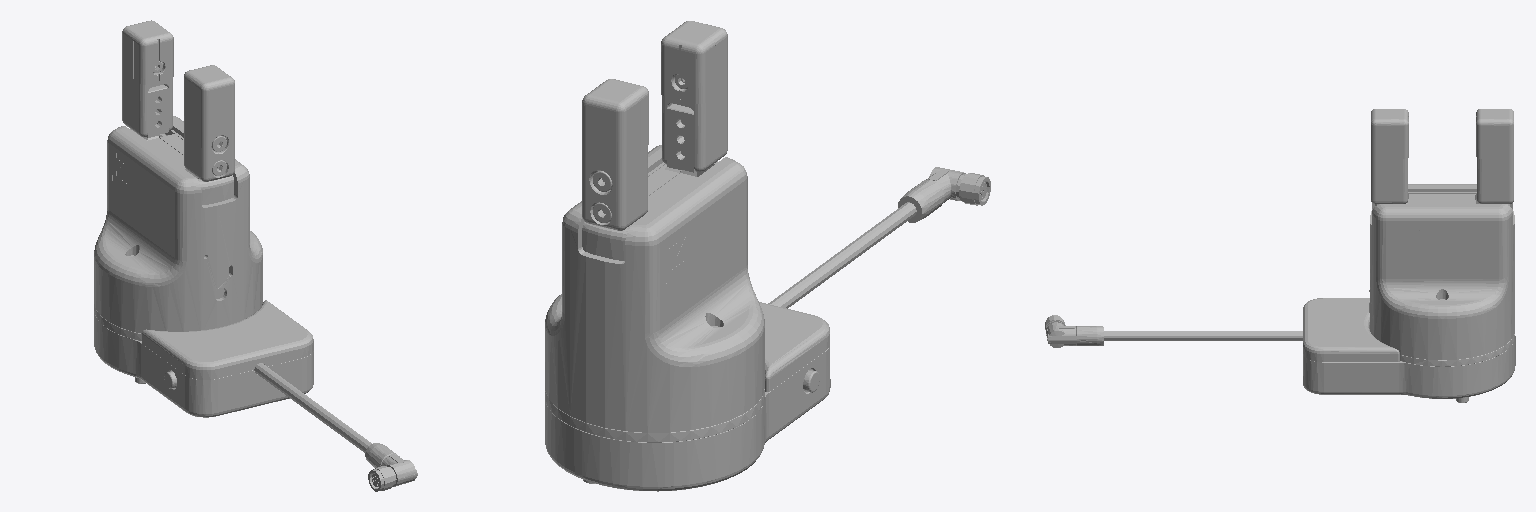
URDF robot description (zimmer_hrc03):
<?xml version="1.0" encoding="utf-8"?>

<robot name="zimmer_hrc03">

  <!-- ================= BASE LINK ================= -->
  <link name="zimmer_base_link">
    <inertial>
      <origin xyz="-0.00092718 0.0059507 0.034944" rpy="0 0 0" />
      <mass value="0.27939" />
      <inertia
        ixx="0.00032445"
        ixy="-2.3249E-08"
        ixz="-1.9967E-07"
        iyy="0.00022854"
        iyz="3.1026E-05"
        izz="0.00021249" />
    </inertial>

    <visual>
      <origin xyz="0 0 0" rpy="0 0 0" />
      <geometry>
        <mesh filename="package://zimmer_hrc03_description/meshes/base_link.stl" />
      </geometry>
      <material name="">
        <color rgba="0.75 0.75 0.75 1" />
      </material>
    </visual>

    <collision>
      <origin xyz="0 0 0" rpy="0 0 0" />
      <geometry>
        <mesh filename="package://zimmer_hrc03_description/meshes/base_link.stl" />
      </geometry>
    </collision>
  </link>

  <!-- ================= LEFT FINGER ================= -->
  <link name="zimmer_left_finger">
    <inertial>
      <origin xyz="0 0 0" rpy="0 0 0" />
      <mass value="0.014997" />
      <inertia
        ixx="2.6479E-06"
        ixy="-5.7127E-08"
        ixz="5.2868E-08"
        iyy="1.2151E-06"
        iyz="3.4414E-07"
        izz="1.9805E-06" />
    </inertial>

    <visual>
      <origin xyz="0 0 0" rpy="0 0 0" />
      <geometry>
        <mesh filename="package://zimmer_hrc03_description/meshes/left_finger.stl" />
      </geometry>
      <material name="">
        <color rgba="0.75 0.75 0.75 1" />
      </material>
    </visual>

    <collision>
      <origin xyz="0 0 0" rpy="0 0 0" />
      <geometry>
        <mesh filename="package://zimmer_hrc03_description/meshes/left_finger.stl" />
      </geometry>
    </collision>
  </link>

  <joint name="zimmer_left_finger_joint" type="prismatic">
    <origin xyz="-0.0010119 0.011081 -0.0053514" rpy="1.5708 0 0" />
    <parent link="zimmer_base_link" />
    <child link="zimmer_left_finger" />
    <axis xyz="0 0 1" />
    <limit lower="0.0" upper="0.012" effort="10" velocity="0.2" />
  </joint>


  <!-- ================= RIGHT FINGER ================= -->
  <link name="zimmer_right_finger">
    <inertial>
      <origin xyz="0 0 0" rpy="0 0 0" />
      <mass value="0.014997" />
      <inertia
        ixx="2.6479E-06"
        ixy="5.7127E-08"
        ixz="5.2868E-08"
        iyy="1.2151E-06"
        iyz="-3.4414E-07"
        izz="1.9805E-06" />
    </inertial>

    <visual>
      <origin xyz="0 0 0" rpy="0 0 0" />
      <geometry>
        <mesh filename="package://zimmer_hrc03_description/meshes/right_finger.stl" />
      </geometry>
      <material name="">
        <color rgba="0.75 0.75 0.75 1" />
      </material>
    </visual>

    <collision>
      <origin xyz="0 0 0" rpy="0 0 0" />
      <geometry>
        <mesh filename="package://zimmer_hrc03_description/meshes/right_finger.stl" />
      </geometry>
    </collision>
  </link>

  <joint name="zimmer_right_finger_joint" type="prismatic">
    <origin xyz="-0.00081187 -0.0073244 -0.0053514" rpy="1.5708 0 0" />
    <parent link="zimmer_base_link" />
    <child link="zimmer_right_finger" />
    <axis xyz="0 0 -1" />
    <mimic joint="zimmer_left_finger_joint" multiplier="1.0" />
    <limit lower="0.0" upper="0.012" effort="10" velocity="0.2" />
  </joint>

</robot>

--- Facts derived from the render (not from the file) ---
3 views of the same robot in one strip: view 1: azimuth 30°, elevation 25°; view 2: azimuth 150°, elevation 25°; view 3: azimuth 270°, elevation 25° (orthographic).
Robot: zimmer_hrc03 — 3 links, 2 joints (2 prismatic); root link zimmer_base_link; default pose: all joints at 0.
Links seen in each view (by area): view 1: zimmer_base_link, zimmer_left_finger, zimmer_right_finger; view 2: zimmer_base_link, zimmer_left_finger, zimmer_right_finger; view 3: zimmer_base_link, zimmer_left_finger, zimmer_right_finger.
Link boxes in pixels (x1=…): zimmer_base_link: x1=94, y1=116, x2=417, y2=491; zimmer_left_finger: x1=122, y1=20, x2=197, y2=178; zimmer_right_finger: x1=160, y1=65, x2=234, y2=181; zimmer_base_link: x1=545, y1=145, x2=990, y2=491; zimmer_left_finger: x1=582, y1=79, x2=696, y2=230; zimmer_right_finger: x1=648, y1=21, x2=727, y2=195; zimmer_base_link: x1=1045, y1=184, x2=1515, y2=402; zimmer_left_finger: x1=1409, y1=109, x2=1513, y2=203; zimmer_right_finger: x1=1371, y1=109, x2=1475, y2=203.
Bounding box of the posed robot: 0.07 × 0.2258 × 0.1412 m (x, y, z).
3 mesh visuals loaded from 3 distinct referenced files (3 binary STL).
